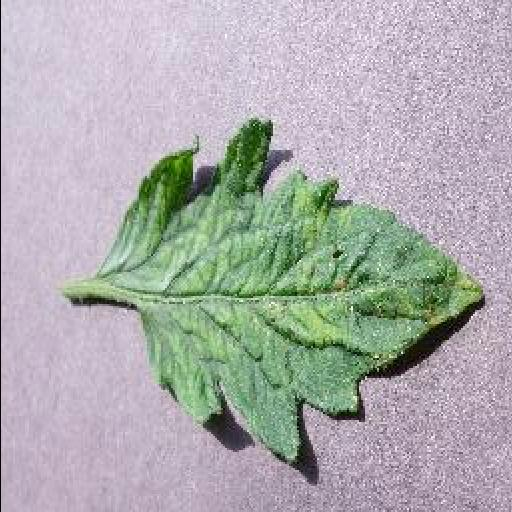Mosaic Virus: (98, 116, 488, 462)
